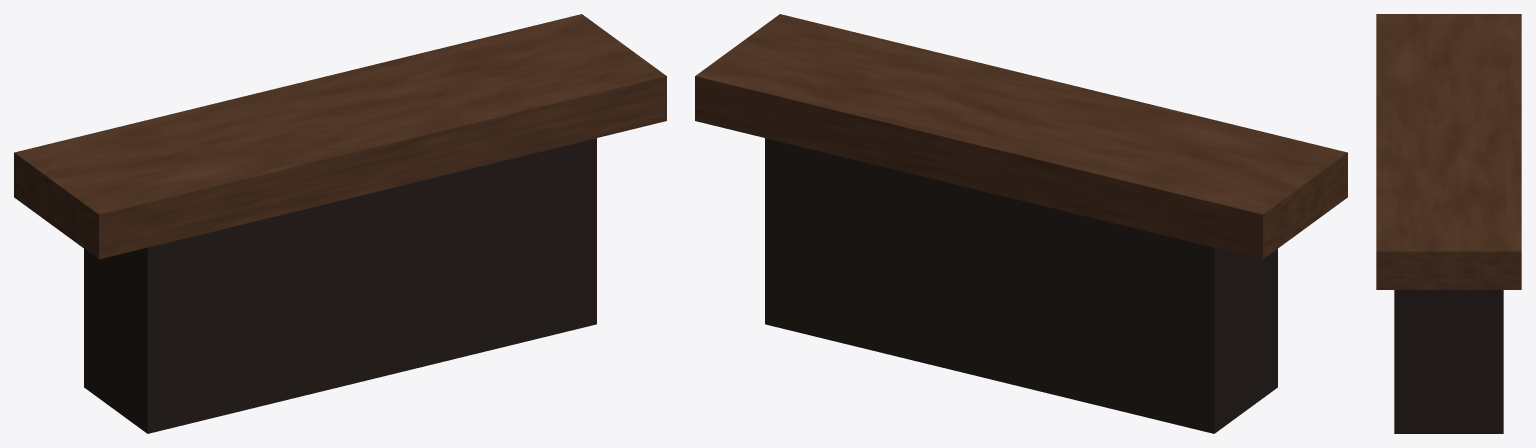
File: museum-furniture.glb
3 views of the same model, side by side, from view 1: azimuth 30°, elevation 25°; view 2: azimuth 150°, elevation 25°; view 3: azimuth 270°, elevation 25° (orthographic). The views are drawn at different scales.
Visible parts, largest first — view 1: Dark gallery pedestal support, Walnut specimen plinth; view 2: Dark gallery pedestal support, Walnut specimen plinth; view 3: Walnut specimen plinth, Dark gallery pedestal support.
Part boxes in pixels (left/top/right/bottom): Dark gallery pedestal support: left=84, top=138, right=596, bottom=433; Walnut specimen plinth: left=14, top=14, right=666, bottom=259; Dark gallery pedestal support: left=765, top=138, right=1277, bottom=433; Walnut specimen plinth: left=695, top=14, right=1347, bottom=259; Walnut specimen plinth: left=1376, top=14, right=1521, bottom=289; Dark gallery pedestal support: left=1394, top=290, right=1503, bottom=433.
Bounding box in the file's own units: 2.78 × 1.13 × 0.72.
2 materials, 1 textured.
